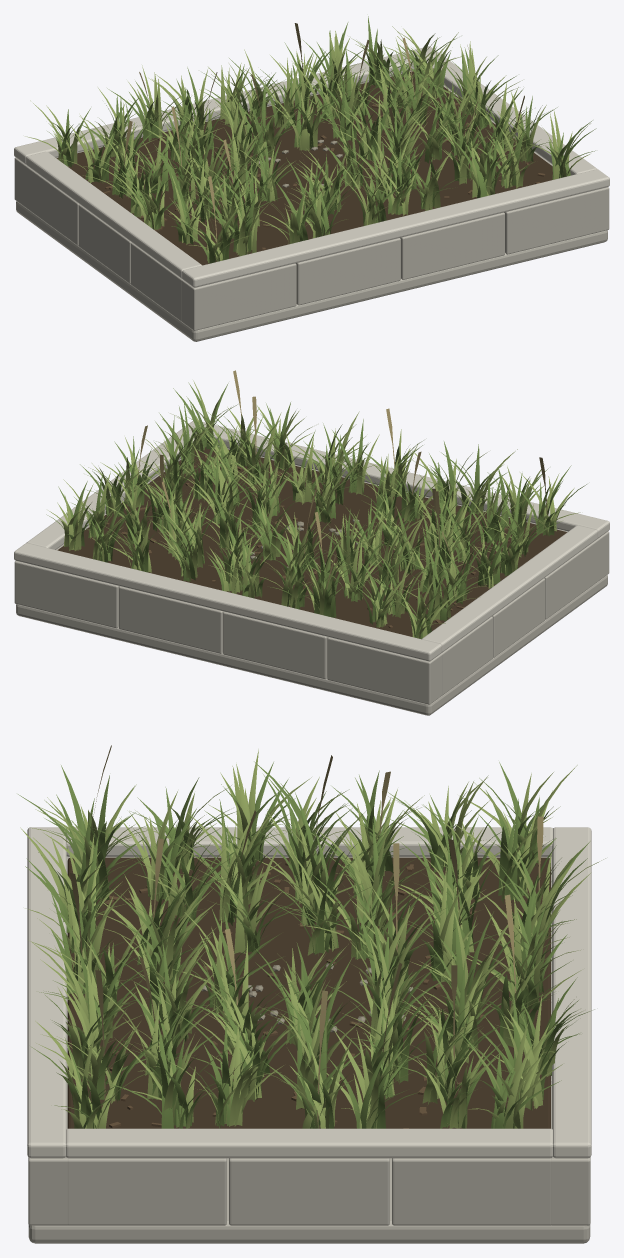
The model's file is planter.glb.
3 views of the same model, one above another, from view 1: azimuth 30°, elevation 25°; view 2: azimuth 150°, elevation 25°; view 3: azimuth 270°, elevation 25° (orthographic). The views are drawn at different scales.
Parts seen in each view (by area): view 1: Planting grass meadow, Planting grass detail, Planting warm limestone, Planting honed coping, Planting dark loam, Planting seed heads, Planting bark mulch; view 2: Planting grass meadow, Planting warm limestone, Planting grass detail, Planting honed coping, Planting dark loam, Planting seed heads, Planting bark mulch; view 3: Planting grass detail, Planting grass meadow, Planting dark loam, Planting warm limestone, Planting honed coping, Planting seed heads, Planting bark mulch.
Boxes of the visible parts, x1=… form: Planting grass meadow: x1=47, y1=16, x2=596, y2=263; Planting grass detail: x1=25, y1=26, x2=590, y2=262; Planting warm limestone: x1=14, y1=71, x2=609, y2=341; Planting honed coping: x1=14, y1=46, x2=609, y2=287; Planting dark loam: x1=56, y1=71, x2=552, y2=265; Planting seed heads: x1=124, y1=23, x2=524, y2=249; Planting bark mulch: x1=85, y1=103, x2=545, y2=250; Planting grass meadow: x1=46, y1=382, x2=586, y2=638; Planting warm limestone: x1=14, y1=446, x2=609, y2=715; Planting grass detail: x1=48, y1=380, x2=580, y2=638; Planting honed coping: x1=14, y1=421, x2=609, y2=661; Planting dark loam: x1=57, y1=447, x2=567, y2=636; Planting seed heads: x1=137, y1=370, x2=547, y2=595; Planting bark mulch: x1=104, y1=454, x2=509, y2=628; Planting grass detail: x1=20, y1=749, x2=605, y2=1128; Planting grass meadow: x1=18, y1=761, x2=594, y2=1128; Planting dark loam: x1=67, y1=857, x2=550, y2=1128; Planting warm limestone: x1=28, y1=856, x2=590, y2=1243; Planting honed coping: x1=27, y1=827, x2=591, y2=1158; Planting seed heads: x1=70, y1=745, x2=543, y2=1128; Planting bark mulch: x1=104, y1=861, x2=492, y2=1128.
Size of the model in its own units: 4.08 by 1.35 by 3.17.
